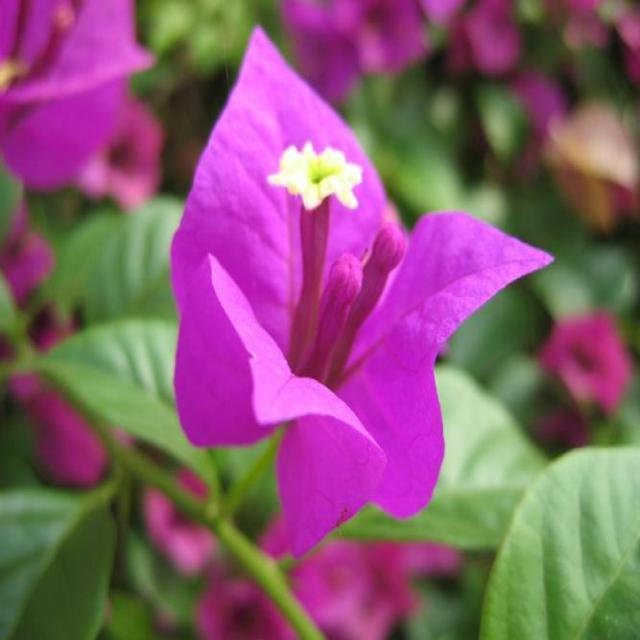bougainvillea: (155, 12, 580, 634)
